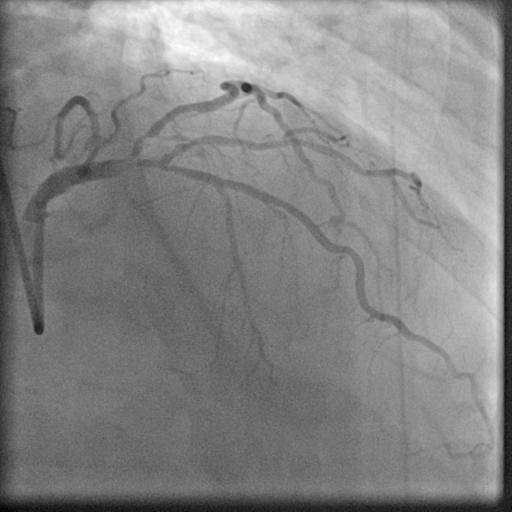Stenosis: (132, 127, 153, 148)
